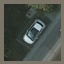car: (22, 19, 46, 45)
